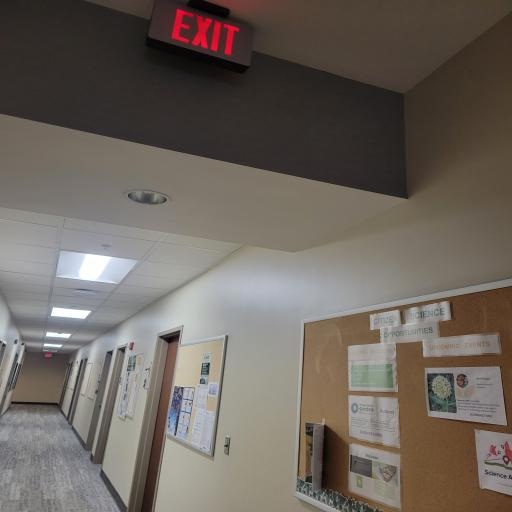door: (127, 0, 262, 77)
exit sign: (41, 350, 56, 360)
light switch: (216, 433, 239, 458)
poster board: (287, 282, 512, 510), (167, 335, 232, 450)
